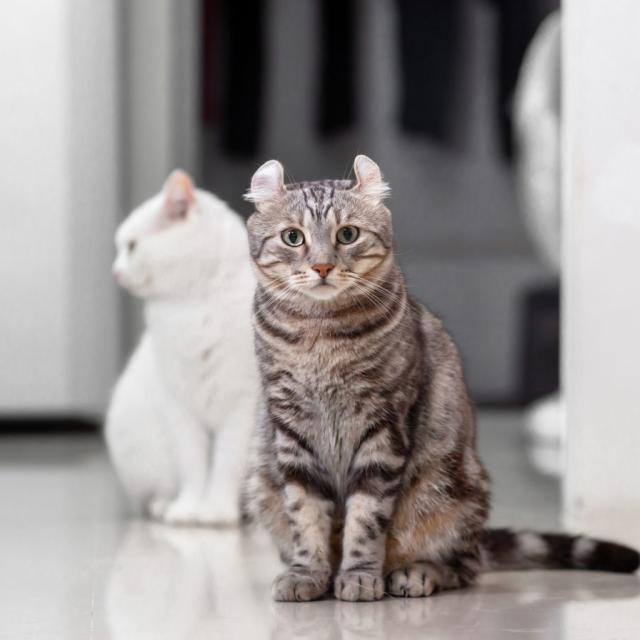American Curl: (238, 151, 640, 609)
